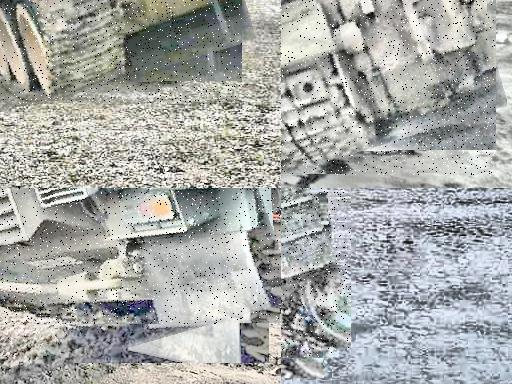tanks: (1, 189, 282, 325), (282, 1, 496, 175), (1, 1, 210, 105), (282, 189, 352, 358)
